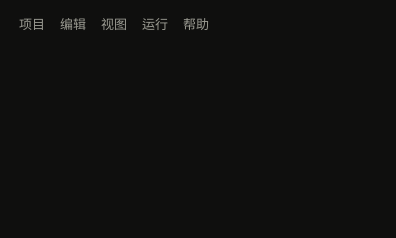
Test case: VNextMenuBar › keeps unavailable commands disabled with an explanatory title
What coordinates should you click on to do the following:
click the button with class "app-menu-trigger" showing "运行"
I would click on:
 (155, 25)
Its box is [135, 12, 175, 38].
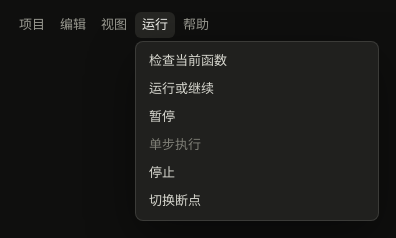
Result: the menu item "单步执行" is disabled at [141, 131, 373, 159]
